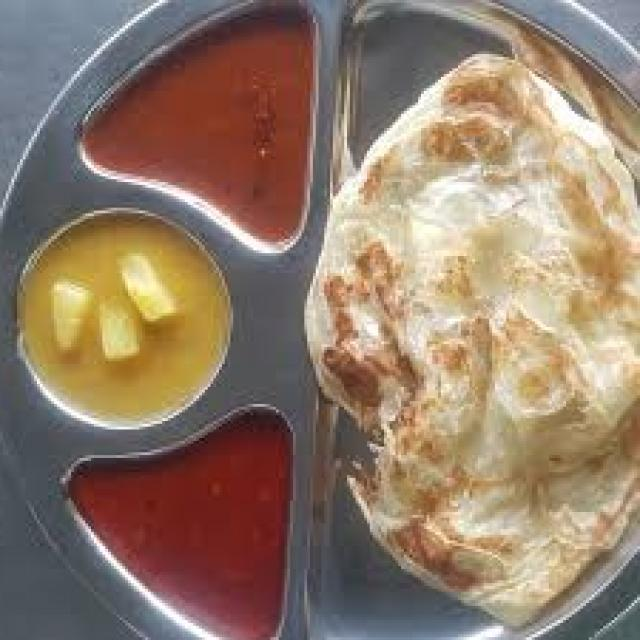Paratha: (314, 47, 630, 625)
